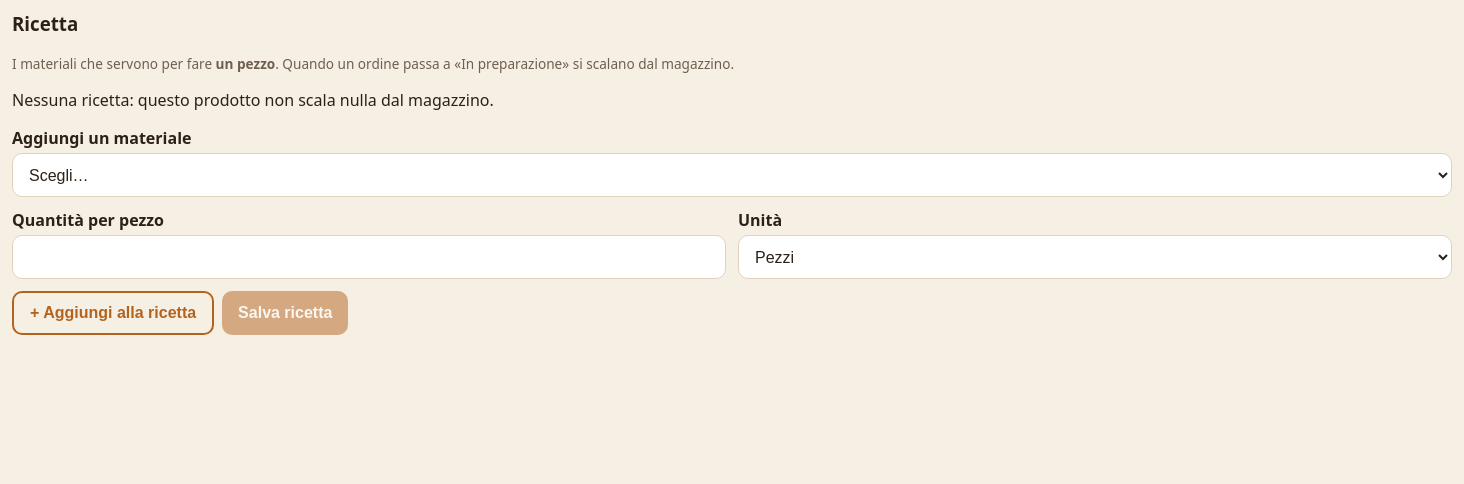
Scenario: aggiungere ingredienti › 18 g di filamento (scorta in chili) e 1 pezzo di anello: si salva in unità base
Select "Filamento PLA" in the dropdown labelled "Aggiungi un materiale". click: (732, 175)
box: [12,153,1452,197]
Type "18" into the field labelled "Quantità per pezzo". click: (369, 257)
box: [12,235,726,279]
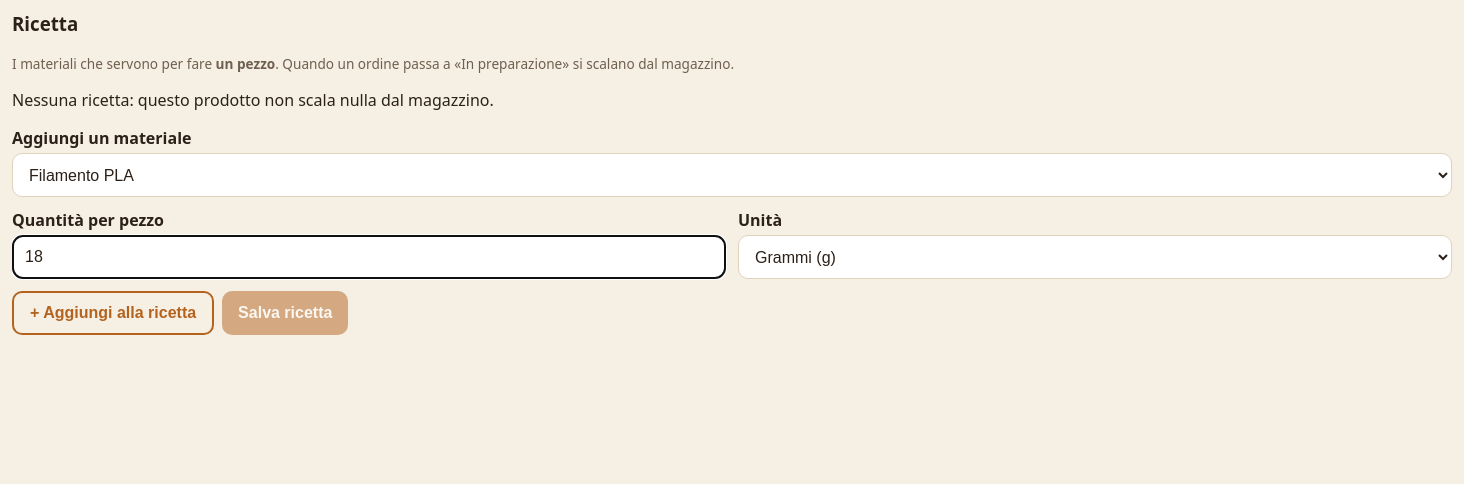
Click the button "+ Aggiungi alla ricetta". click: (113, 313)
box: [12,291,214,335]
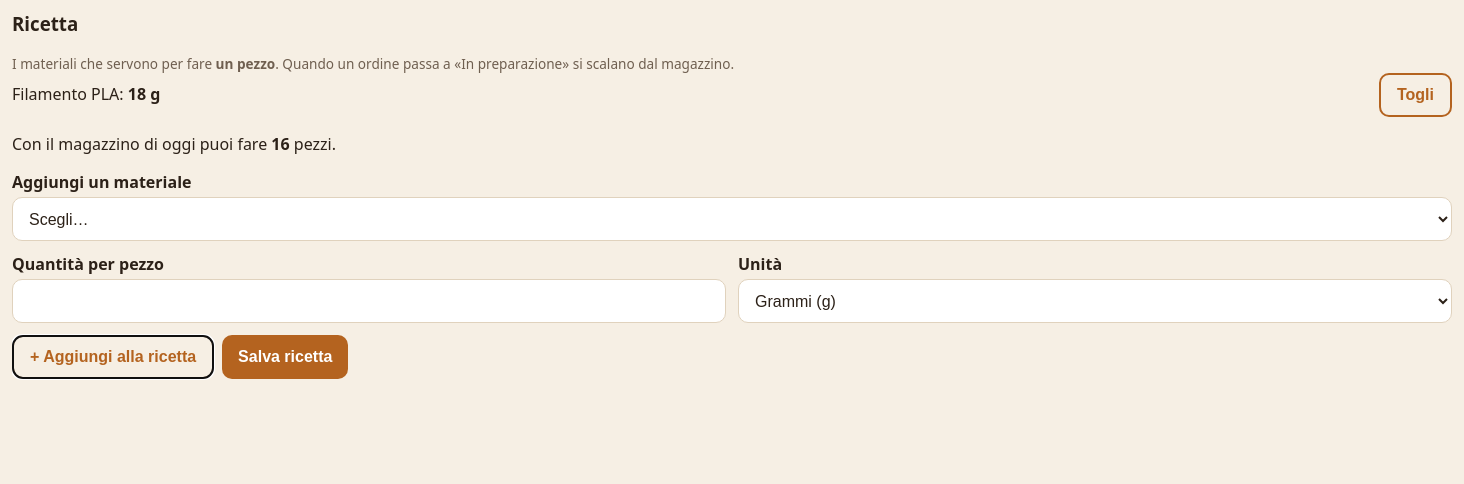
Select "Anello portachiavi" in the dropdown labelled "Aggiungi un materiale". click: (732, 219)
box: [12,197,1452,241]
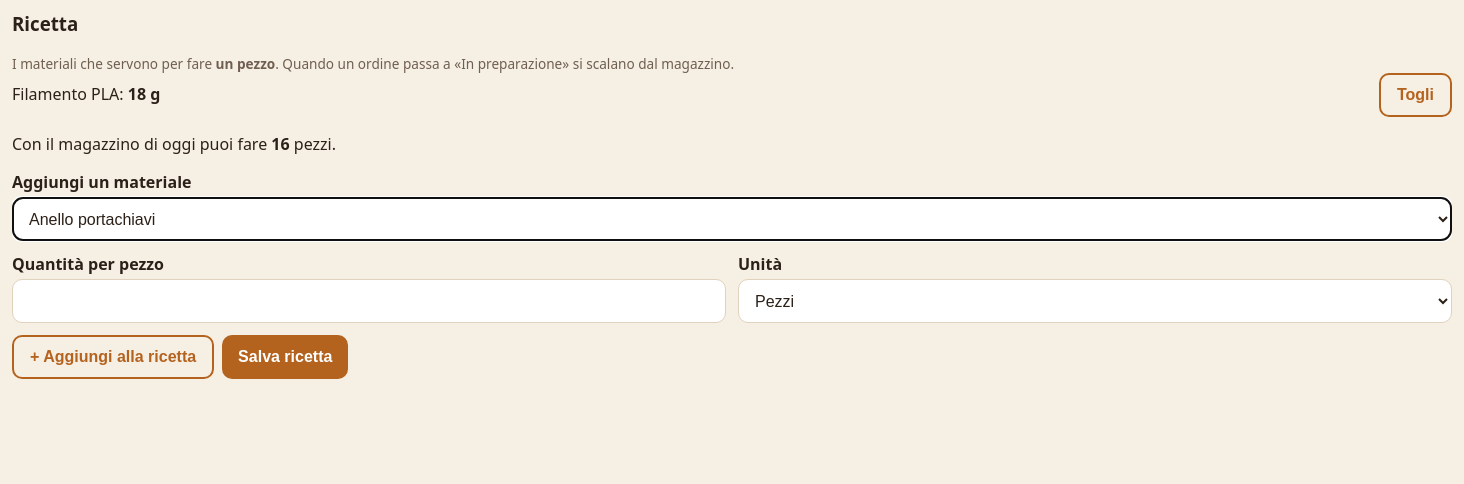
Type "1" into the field labelled "Quantità per pezzo". click: (369, 301)
box: [12,279,726,323]
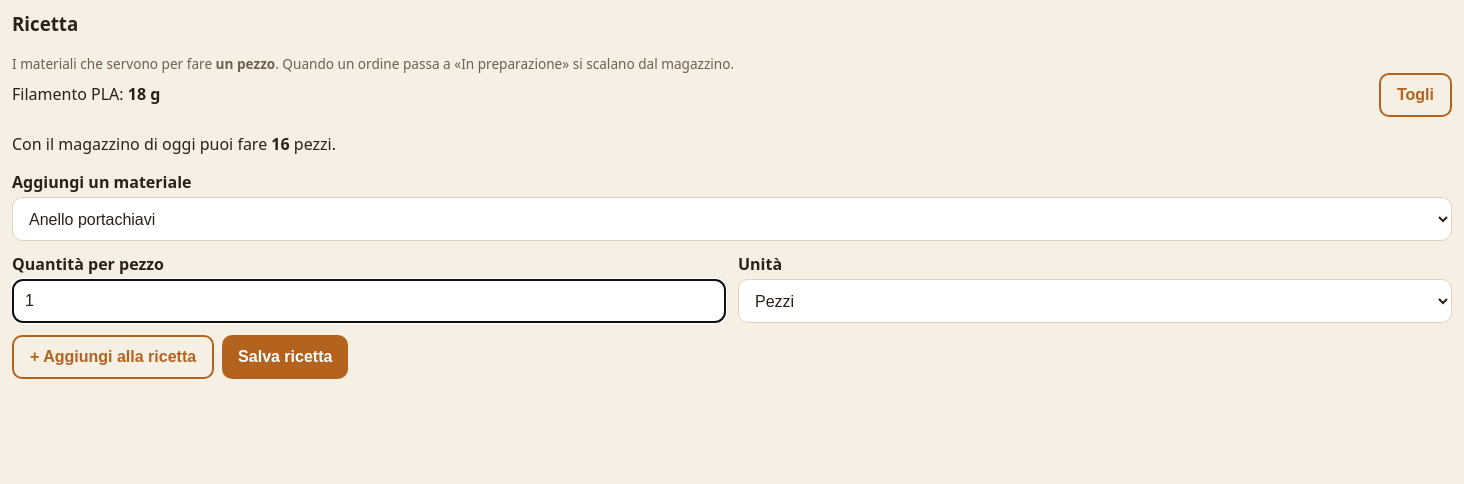
Click the button "+ Aggiungi alla ricetta". click: (113, 357)
box: [12,335,214,379]
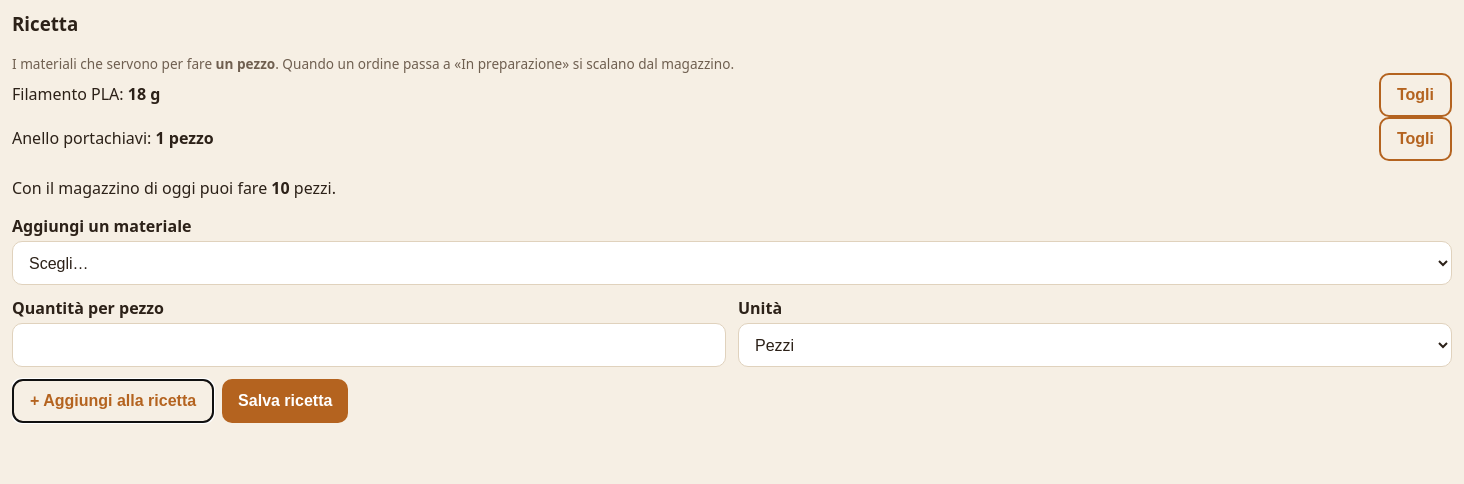
Result: the text "Filamento PLA: 18 g" is shown at [12,83,160,105]
Result: the text "Anello portachiavi: 1 pezzo" is shown at [12,127,214,149]
Click the button "Salva ricetta". click: (285, 401)
box: [222,379,348,423]
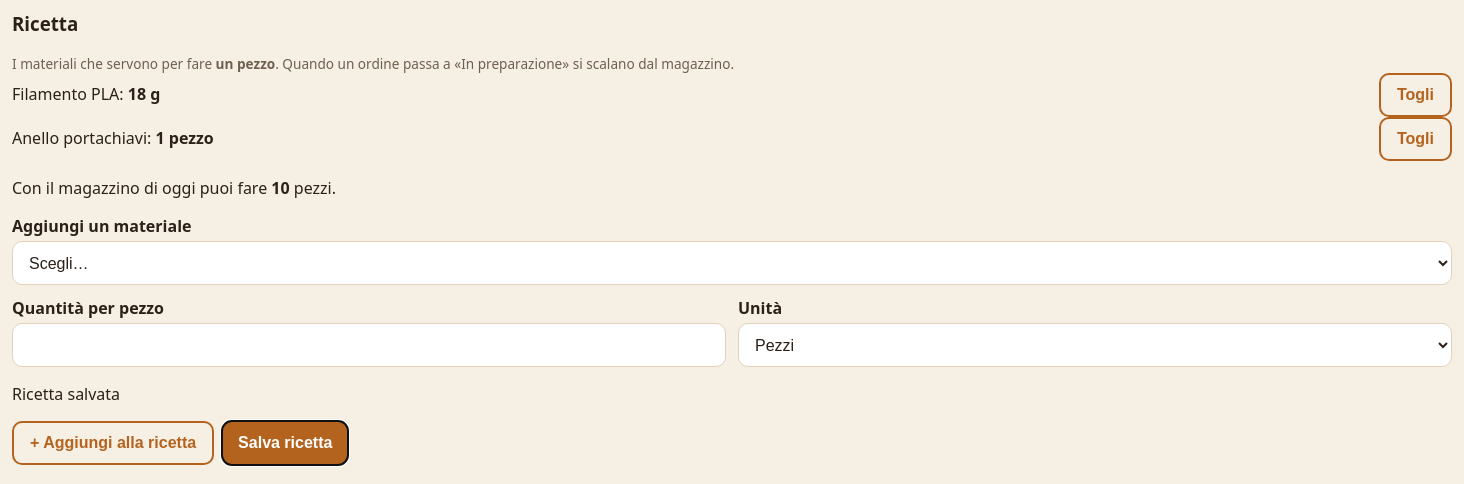
Result: the text "Ricetta salvata" is shown at [12,383,120,405]
